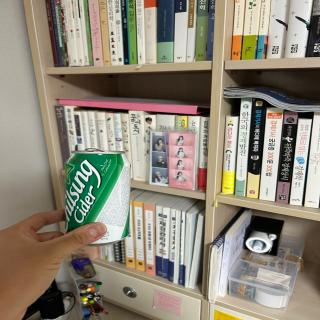chilsung: (61, 147, 133, 244)
